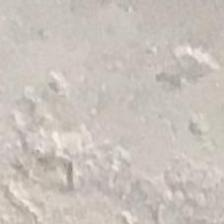Non_Crack: (42, 23, 224, 198)
